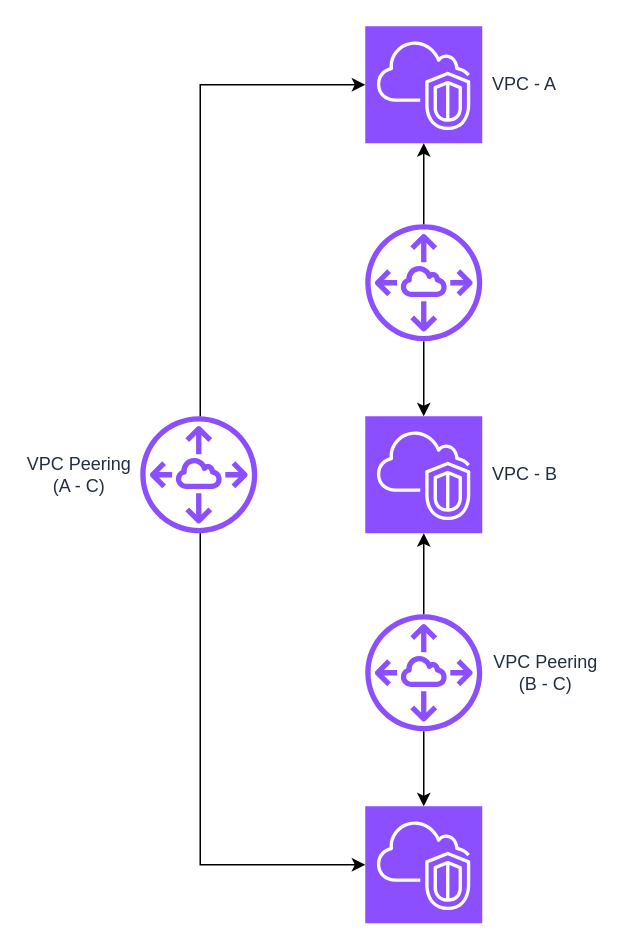
The diagram is 623 pixels wide and 950 high, and some of its shapes have lost their labels. The centre of each missing label's shape, as x and y in pixels:
"VPC - C" goes at (423,864).
"VPC Peering (A - B)" goes at (423,282).
